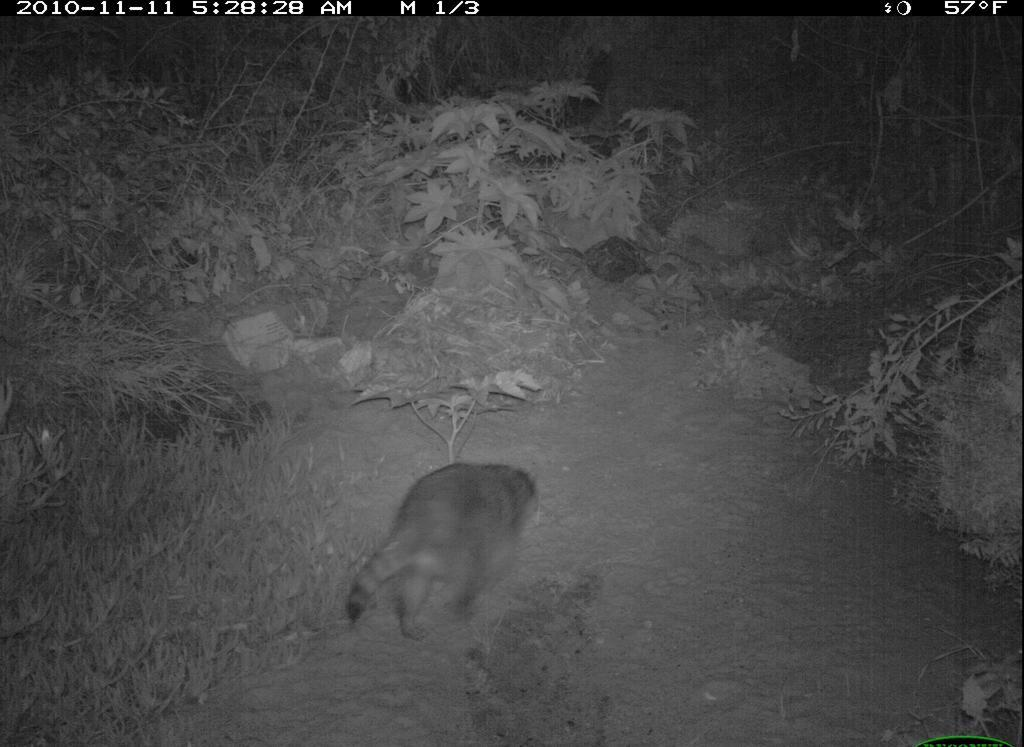raccoon: (338, 452, 550, 655)
